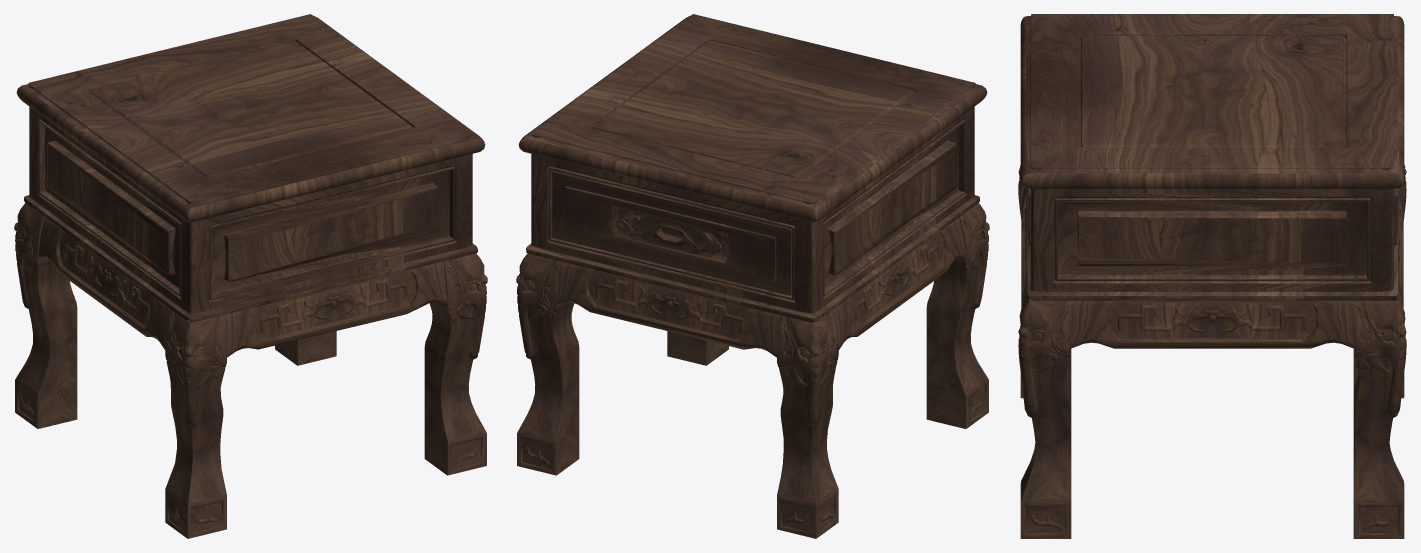
Rendered from table.fbx.
The picture shows the model from 3 angles, left to right: view 1: azimuth 30°, elevation 25°; view 2: azimuth 150°, elevation 25°; view 3: azimuth 270°, elevation 25°; orthographic projection. The views are drawn at different scales.
Visible parts, largest first — view 1: table; view 2: table; view 3: table.
Boxes of the visible parts, x1,y1,x2,y2 form: table: (14,14,487,538); table: (516,14,989,538); table: (1018,14,1406,538).
Bounding box in the file's own units: 58.36 × 60.95 × 58.37.
1 material, 1 textured.
